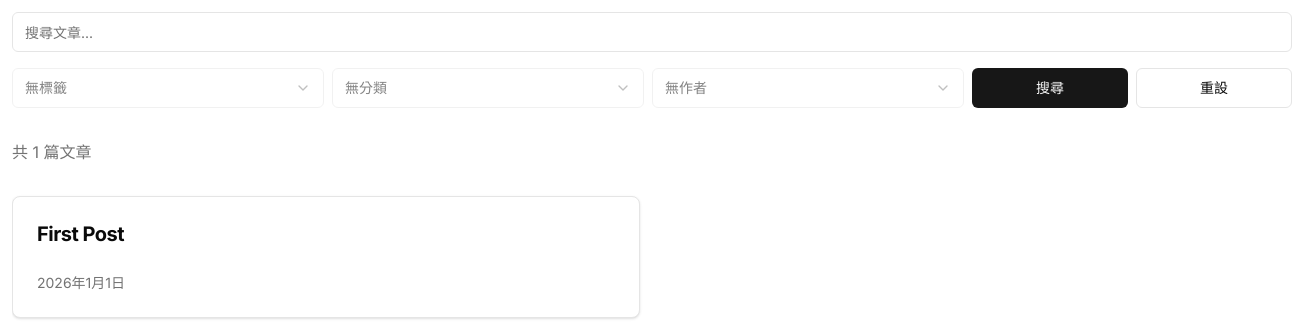
Test: PostsClient › searches on Enter and replaces the post list with the response
Type "hello" into the field with placeholder "搜尋文章...".
click(652, 32); type("hello")  # box [12,12,1292,52]
Then press Enter
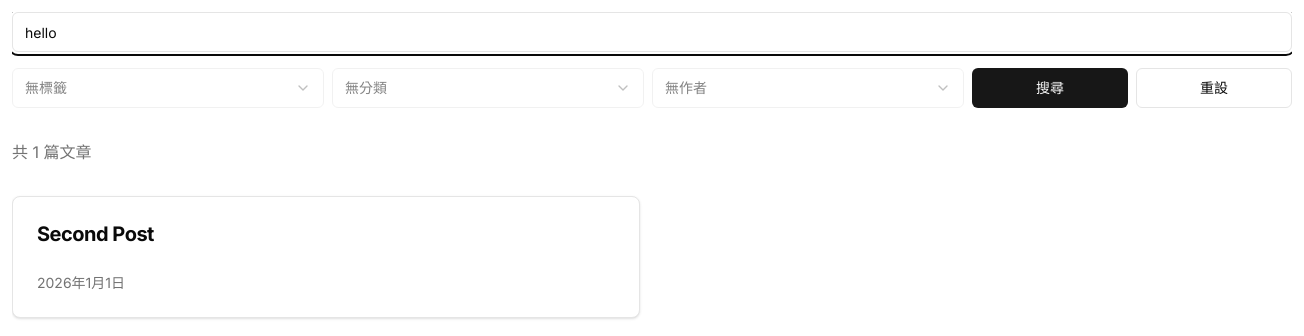
Expected: the link "Second Post 2026年1月1日" is shown, [12,196,640,318]
Expected: the link "First Post" is gone
